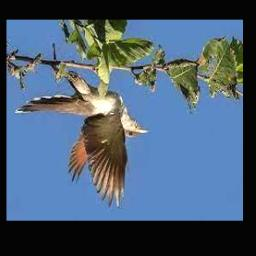Cuckoo: (15, 74, 150, 210)
